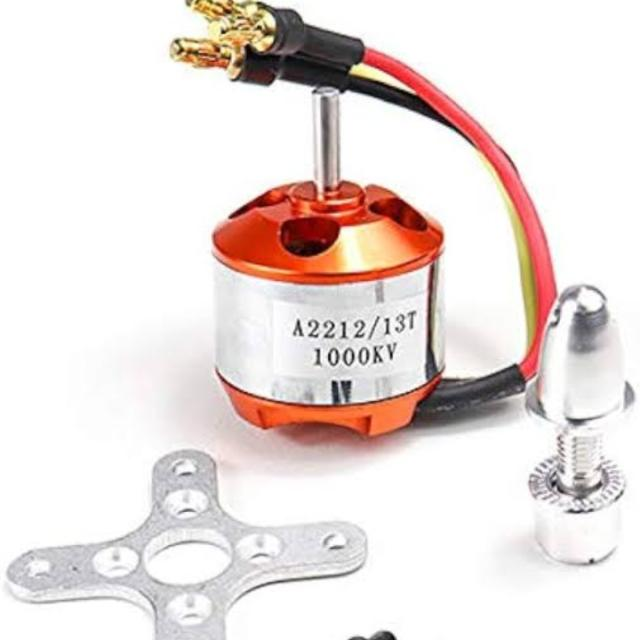motor: (208, 82, 451, 436)
